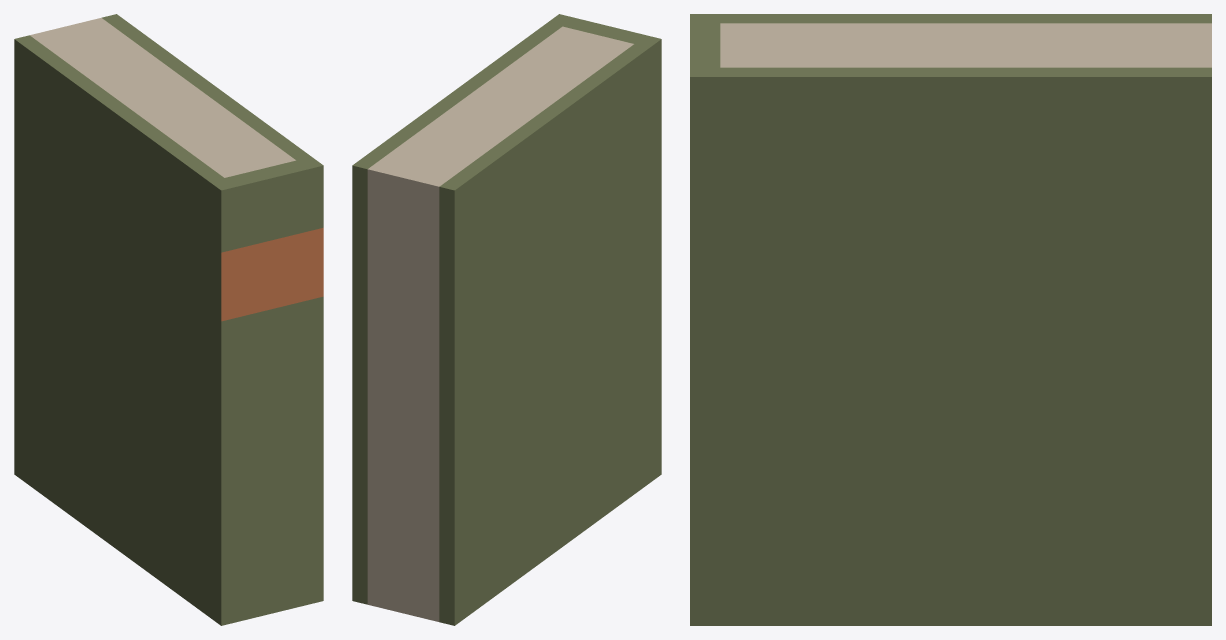
File: SM_Prop_Book_02.fbx
The picture shows the model from 3 angles, left to right: view 1: azimuth 30°, elevation 25°; view 2: azimuth 150°, elevation 25°; view 3: azimuth 270°, elevation 25°; orthographic projection. The views are drawn at different scales.
Visible parts, largest first — view 1: SM_Prop_Book_02; view 2: SM_Prop_Book_02; view 3: SM_Prop_Book_02.
Part boxes in pixels (left/top/right/bottom): SM_Prop_Book_02: left=14, top=14, right=323, bottom=625; SM_Prop_Book_02: left=352, top=14, right=661, bottom=625; SM_Prop_Book_02: left=690, top=14, right=1211, bottom=625.
Size of the model in its own units: 8.2 by 33.28 by 28.68.
